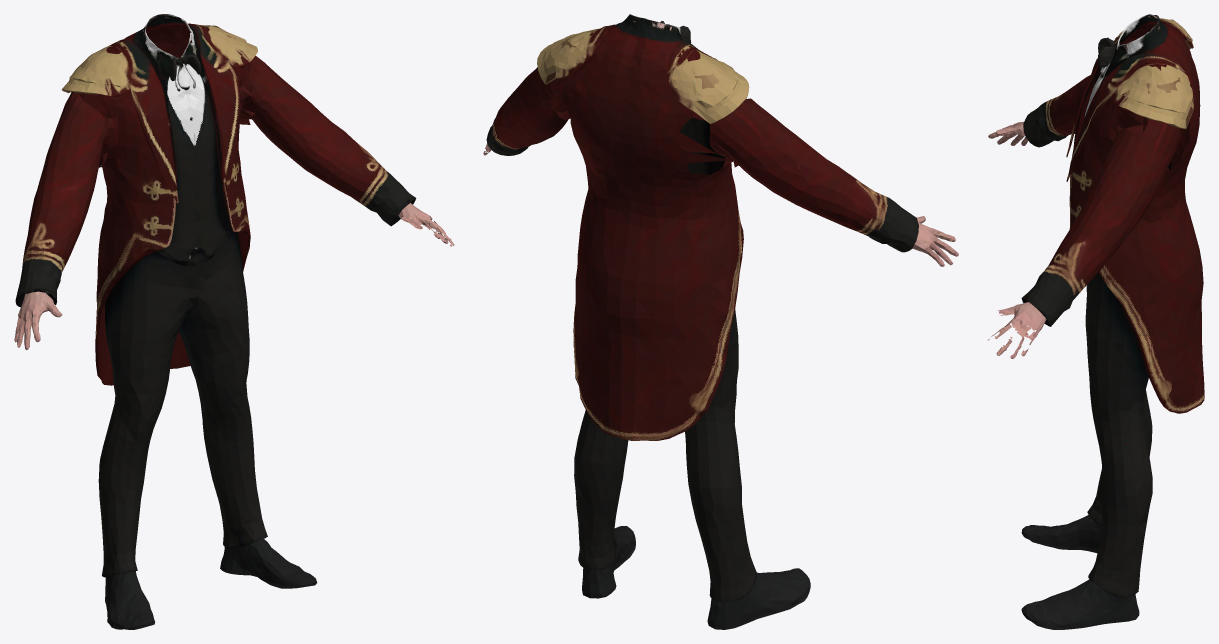
File: ewm_t2ringmaster_outfit.glb
The picture shows the model from 3 angles, left to right: view 1: azimuth 30°, elevation 25°; view 2: azimuth 150°, elevation 25°; view 3: azimuth 270°, elevation 25°; orthographic projection. The views are drawn at different scales.
Visible parts, largest first — view 1: ewm_t2ringmaster_outfit; view 2: ewm_t2ringmaster_outfit; view 3: ewm_t2ringmaster_outfit.
Part boxes in pixels (x1,y1,x2,y2): ewm_t2ringmaster_outfit: (14, 14, 454, 629); ewm_t2ringmaster_outfit: (483, 14, 958, 629); ewm_t2ringmaster_outfit: (987, 14, 1204, 629).
Size of the model in its own units: 1.34 by 1.66 by 0.5764.
Materials: 1 (1 with a texture image).
